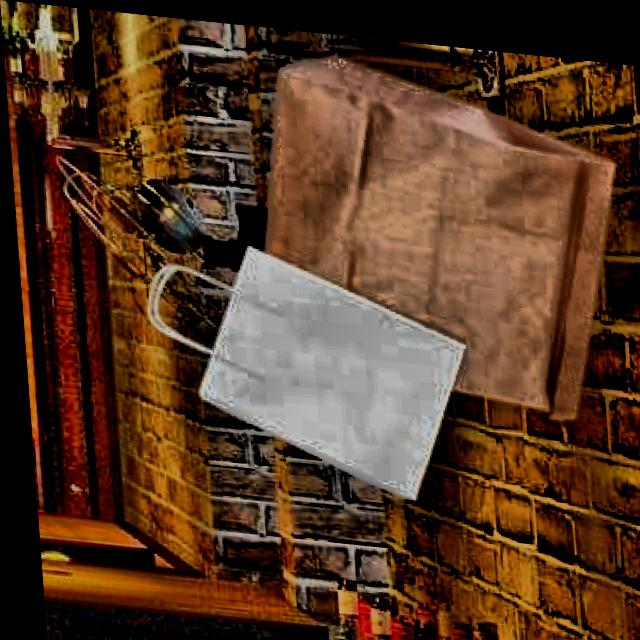Paper-bag: (232, 30, 633, 423), (118, 223, 470, 522)
